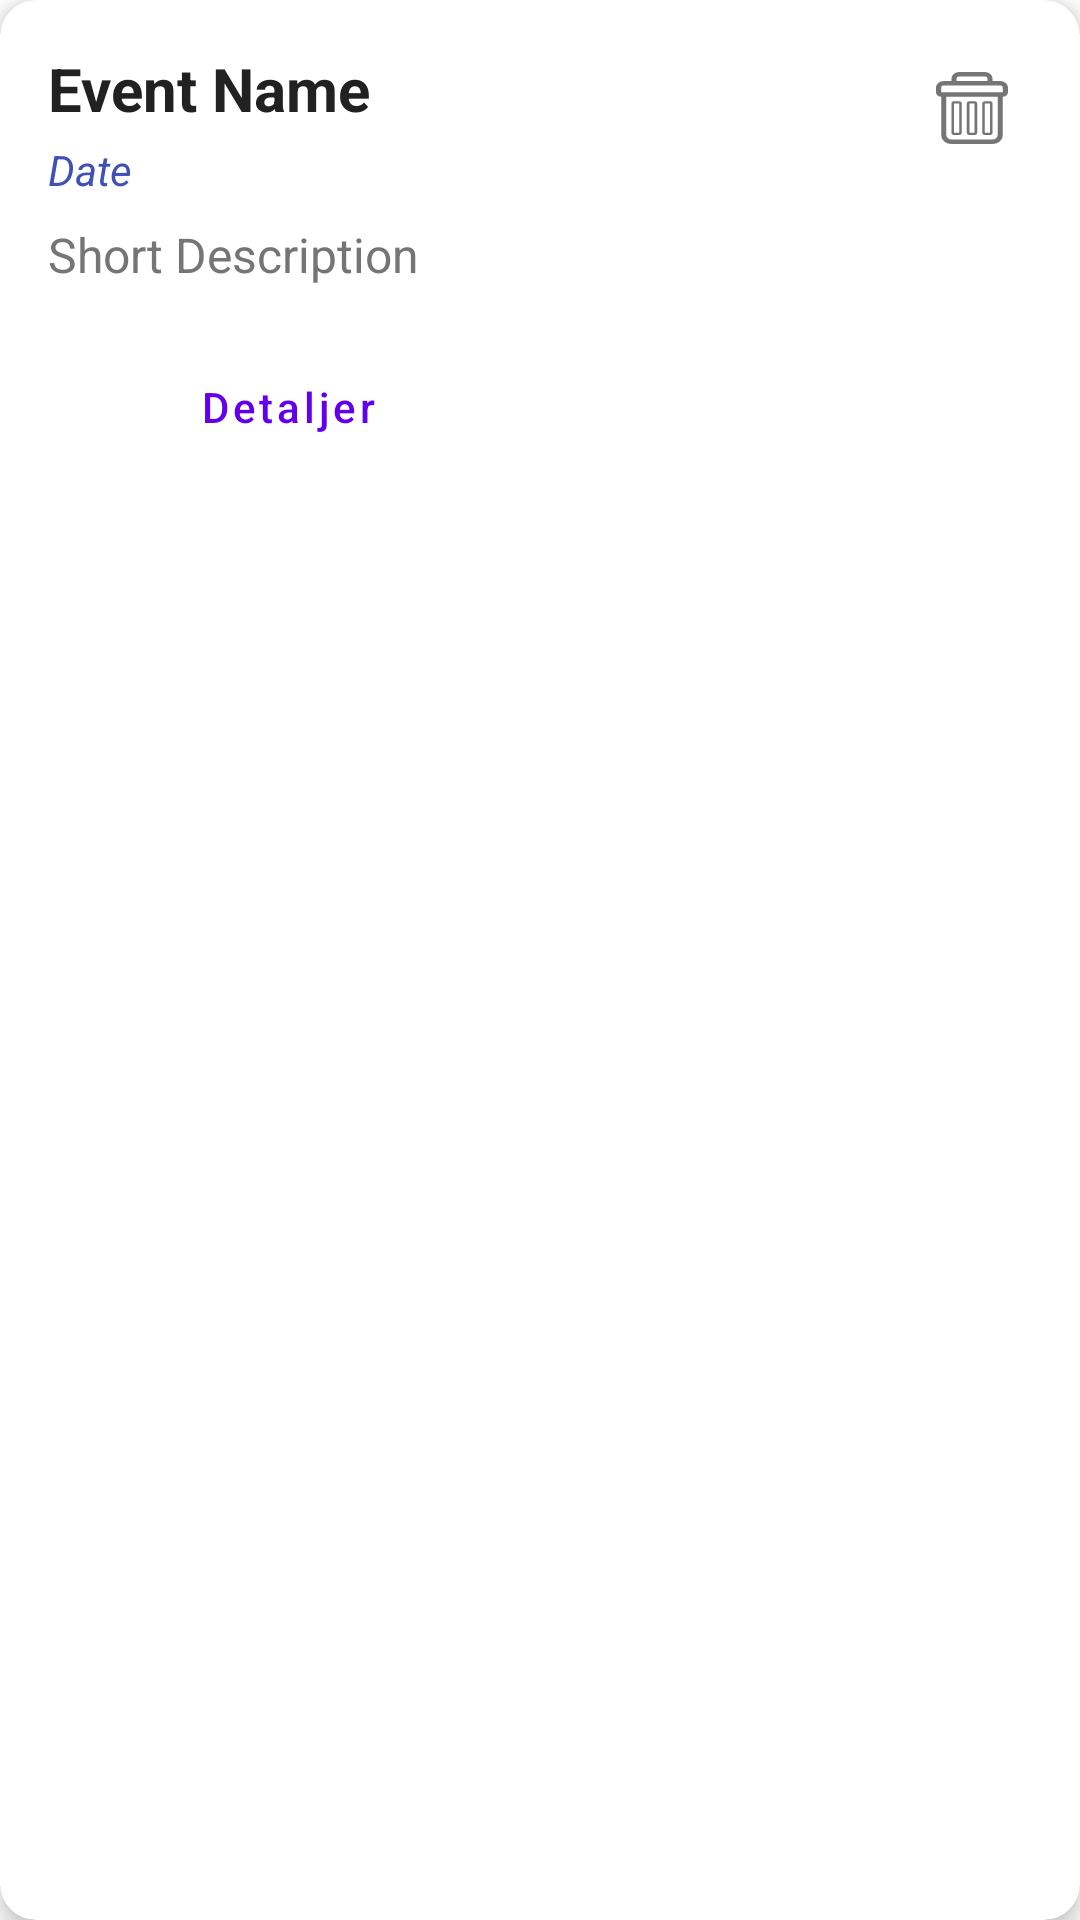

Named icons in this screenshot (1080×1920) and their bounding boxes, (left=x1, top=y1, right=x2, bottom=y2):
Slet begivenhed: (left=936, top=72, right=1008, bottom=144)
